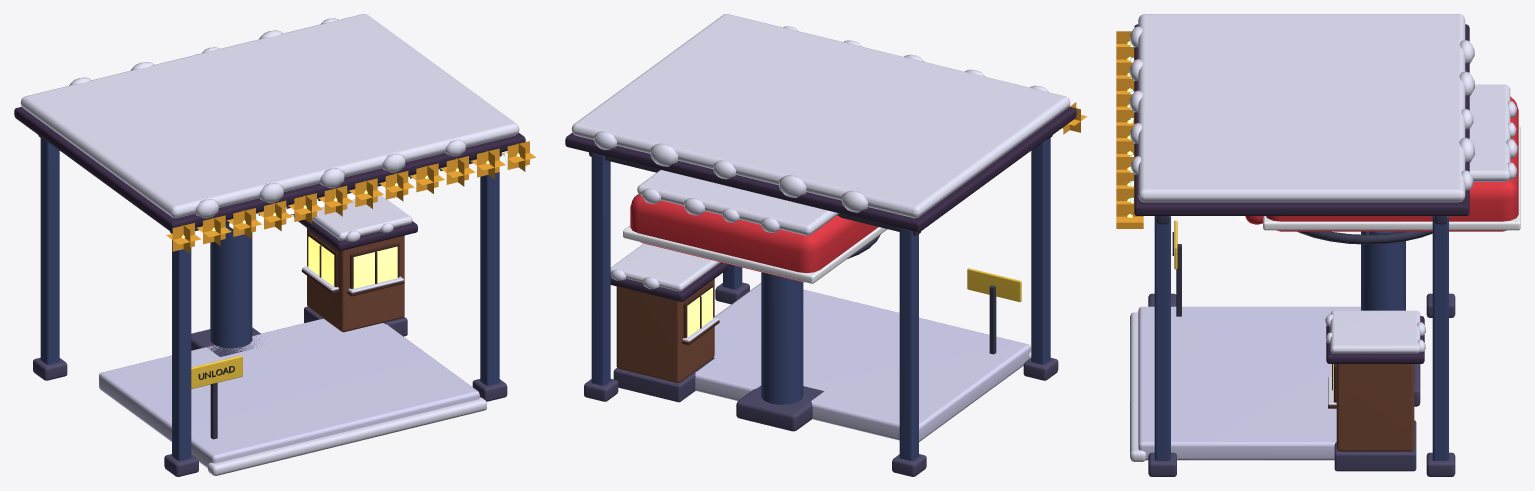
The model's file is frost_lift_station.glb.
3 views of the same model, side by side, from view 1: azimuth 30°, elevation 25°; view 2: azimuth 150°, elevation 25°; view 3: azimuth 270°, elevation 25° (orthographic). The views are drawn at different scales.
Parts seen in each view (by area): view 1: LiftStation; view 2: LiftStation; view 3: LiftStation.
Boxes of the visible parts, x1,y1,x2,y2 form: LiftStation: [14, 14, 535, 476]; LiftStation: [565, 14, 1086, 476]; LiftStation: [1116, 14, 1520, 476].
Size of the model in its own units: 10.67 by 7.93 by 9.89.
